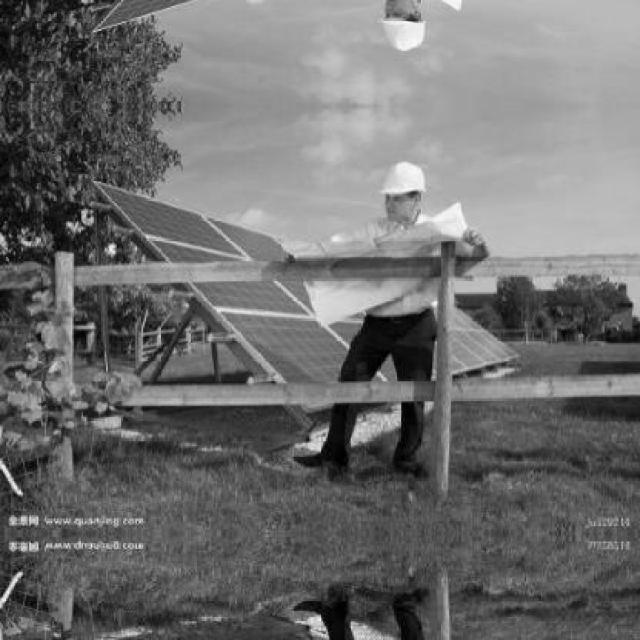helmet: (377, 155, 429, 231), (377, 0, 431, 58)
